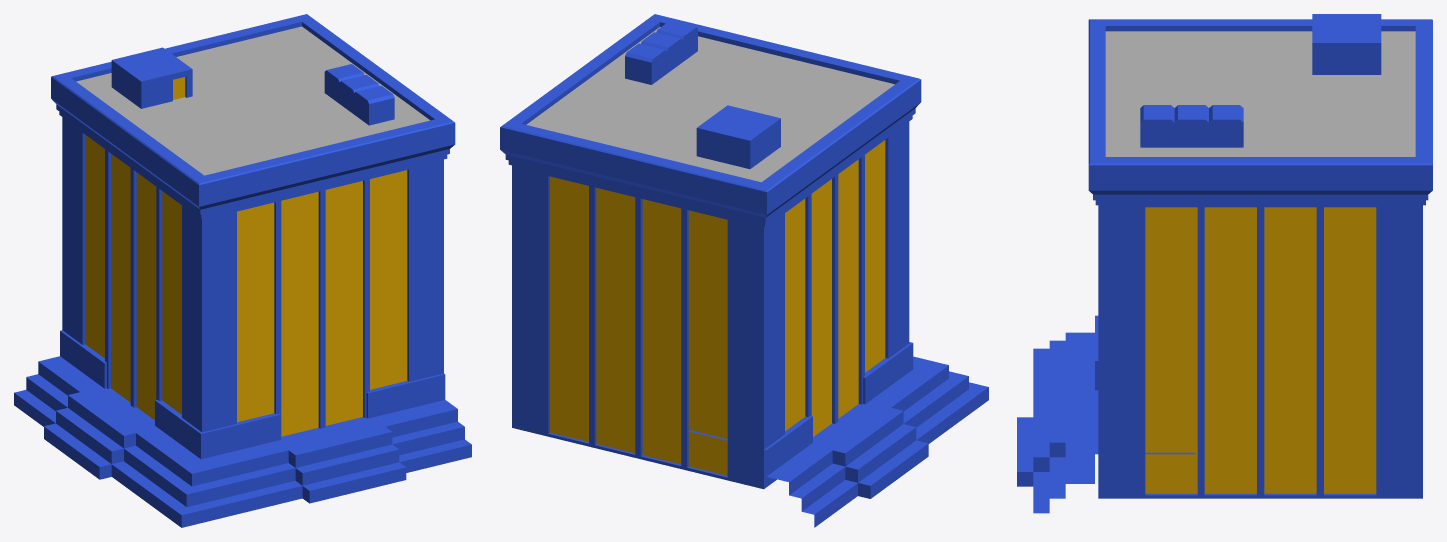
Rendered from Building1.fbx.
The picture shows the model from 3 angles, left to right: view 1: azimuth 30°, elevation 25°; view 2: azimuth 150°, elevation 25°; view 3: azimuth 270°, elevation 25°; orthographic projection. The views are drawn at different scales.
Parts seen in each view (by area): view 1: Tower 1, Roof 1, Base 1; view 2: Tower 1, Roof 1, Base 1; view 3: Tower 1, Roof 1, Base 1.
Part boxes in pixels (x1,y1,x2,y2): Tower 1: [62, 117, 443, 437]; Roof 1: [51, 14, 455, 218]; Base 1: [14, 330, 471, 527]; Tower 1: [512, 122, 909, 489]; Roof 1: [500, 14, 921, 226]; Base 1: [689, 342, 988, 527]; Tower 1: [1098, 205, 1422, 498]; Roof 1: [1088, 14, 1432, 205]; Base 1: [1017, 315, 1195, 513].
Bounding box in the file's own units: 128 × 134 × 128.
